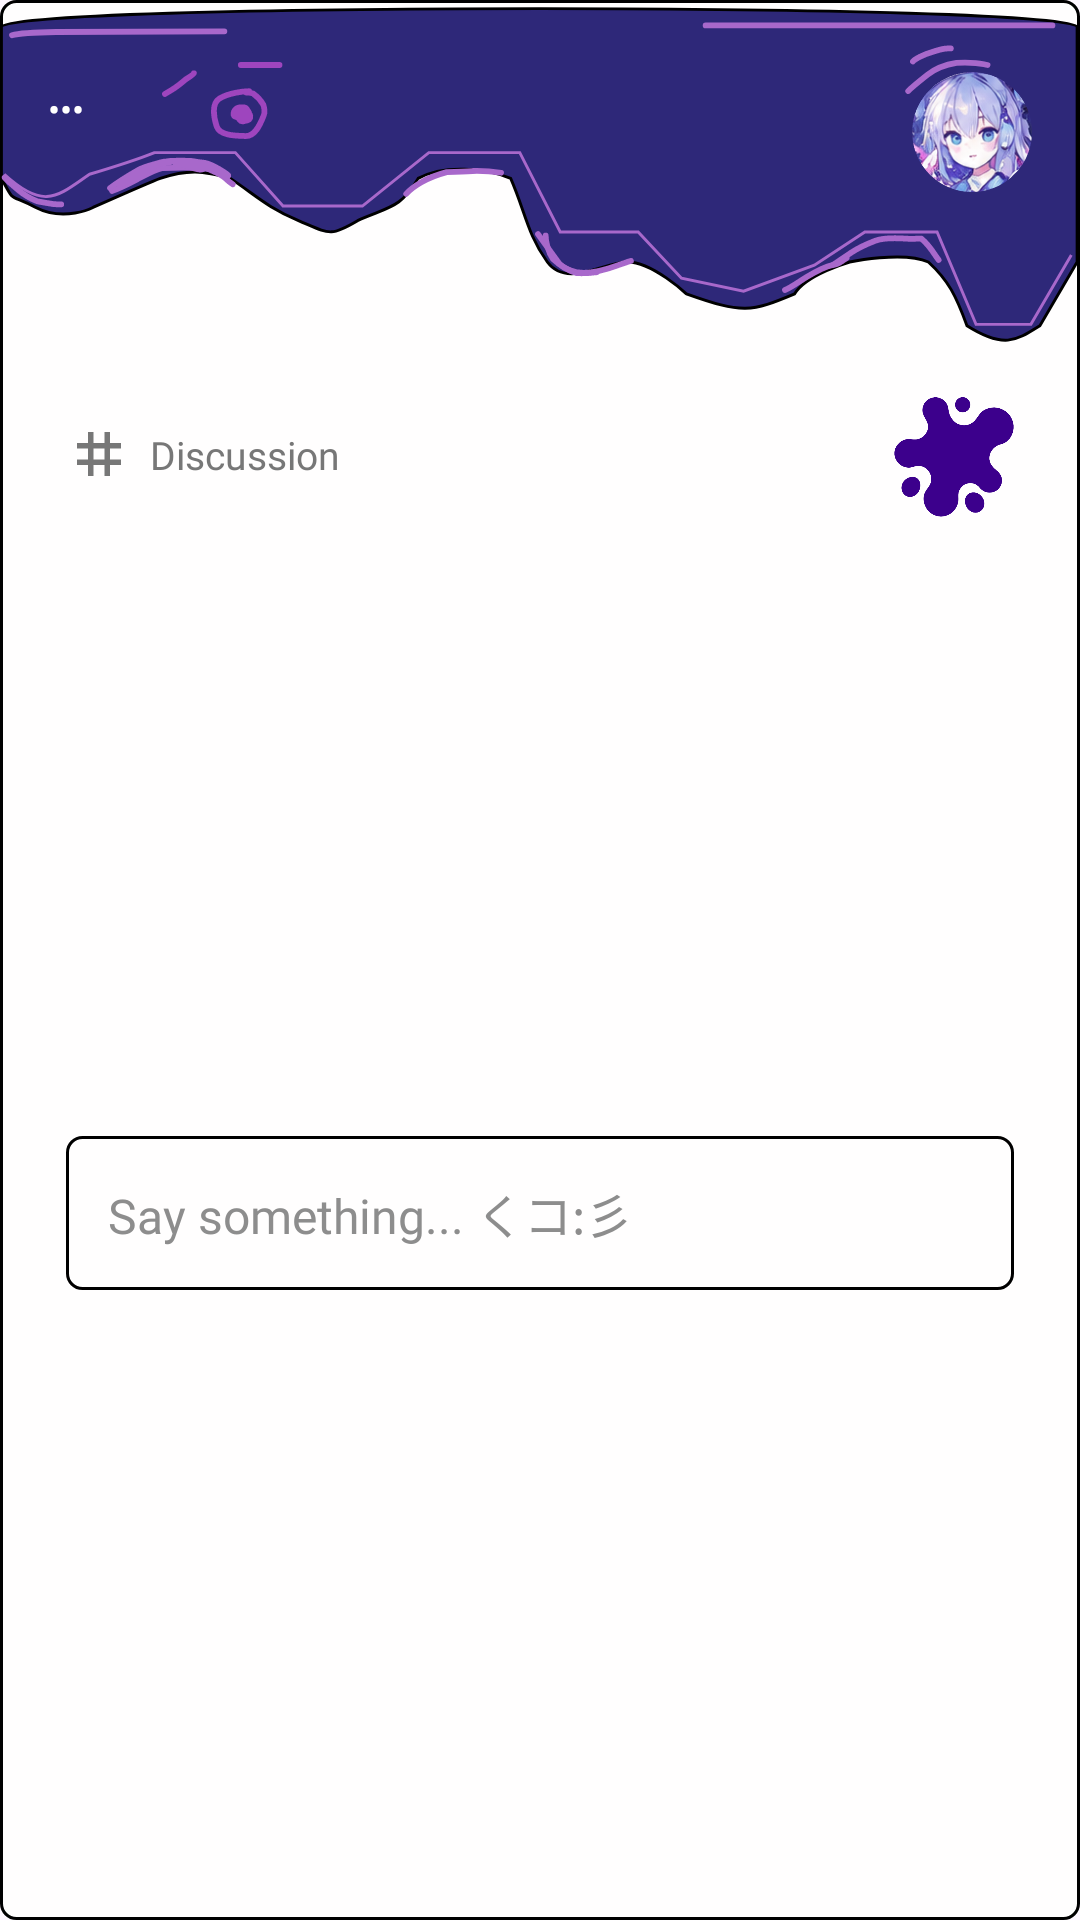

Screen size 1080x1920. Icon name, then its box in pixels as (x1, y1, x2, y2):
post ink splat: (894, 397, 1014, 517)
Topic: (77, 432, 121, 476)
